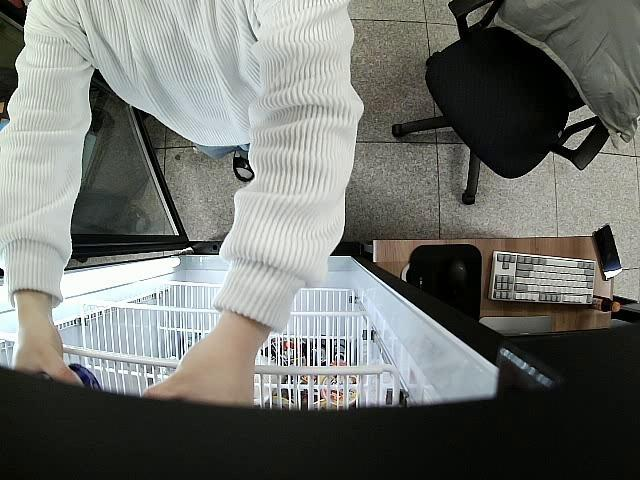14_welchsGrape: (38, 361, 108, 405)
